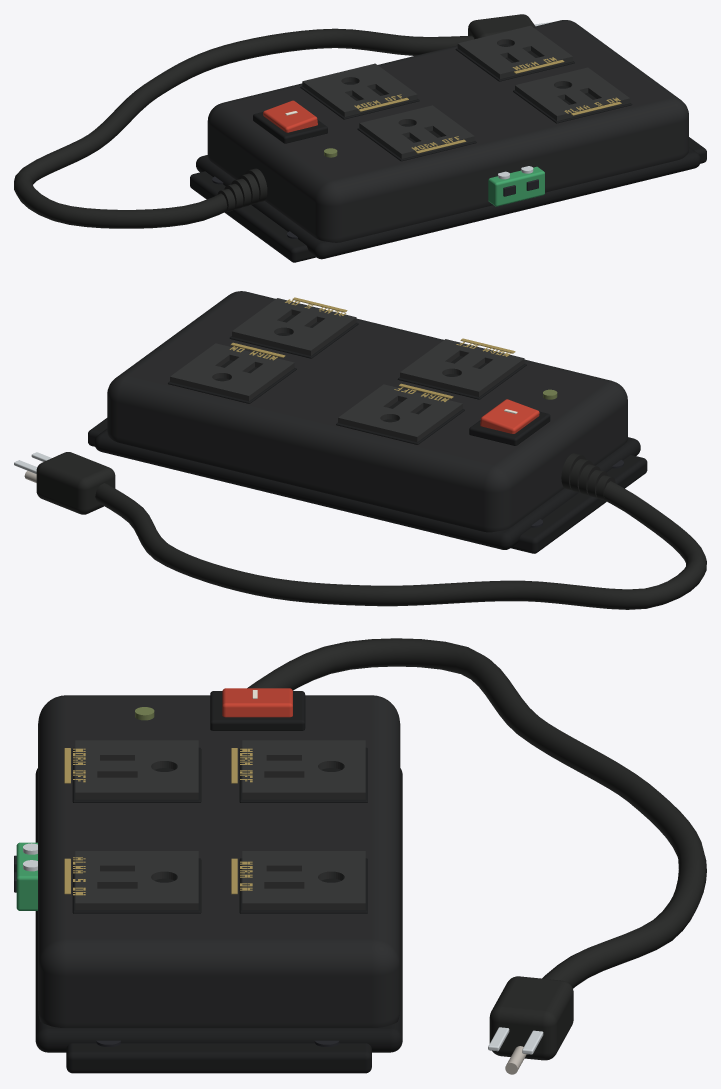
File: sensors-49.glb
3 views of the same model, one above another, from view 1: azimuth 30°, elevation 25°; view 2: azimuth 150°, elevation 25°; view 3: azimuth 270°, elevation 25° (orthographic). The views are drawn at different scales.
Visible parts, largest first — view 1: shell, cable, normally-off, always, normally-on, feet, switch, control, plug; view 2: shell, cable, normally-off, always, normally-on, plug, feet, switch; view 3: shell, cable, normally-off, feet, always, normally-on, plug, switch, control.
Part boxes in pixels (bbox=[...]): shell: bbox=[196, 20, 700, 259]; cable: bbox=[14, 28, 473, 228]; normally-off: bbox=[300, 63, 476, 161]; always: bbox=[513, 67, 632, 123]; normally-on: bbox=[455, 25, 574, 81]; feet: bbox=[190, 137, 706, 262]; switch: bbox=[253, 100, 327, 143]; control: bbox=[488, 166, 544, 206]; plug: bbox=[468, 14, 552, 39]; shell: bbox=[94, 291, 640, 549]; cable: bbox=[95, 453, 706, 609]; normally-off: bbox=[336, 338, 526, 444]; always: bbox=[229, 297, 358, 358]; normally-on: bbox=[168, 342, 296, 403]; plug: bbox=[14, 452, 115, 514]; feet: bbox=[88, 418, 647, 553]; switch: bbox=[469, 399, 550, 445]; shell: bbox=[35, 695, 402, 1052]; cable: bbox=[247, 638, 706, 988]; normally-off: bbox=[64, 740, 367, 802]; feet: bbox=[66, 1040, 371, 1073]; always: bbox=[64, 851, 201, 913]; normally-on: bbox=[231, 851, 367, 913]; plug: bbox=[488, 976, 573, 1074]; switch: bbox=[210, 688, 305, 730]; control: bbox=[14, 842, 37, 910].
Bounding box in the file's own units: 3.81 × 0.5621 × 2.7.
